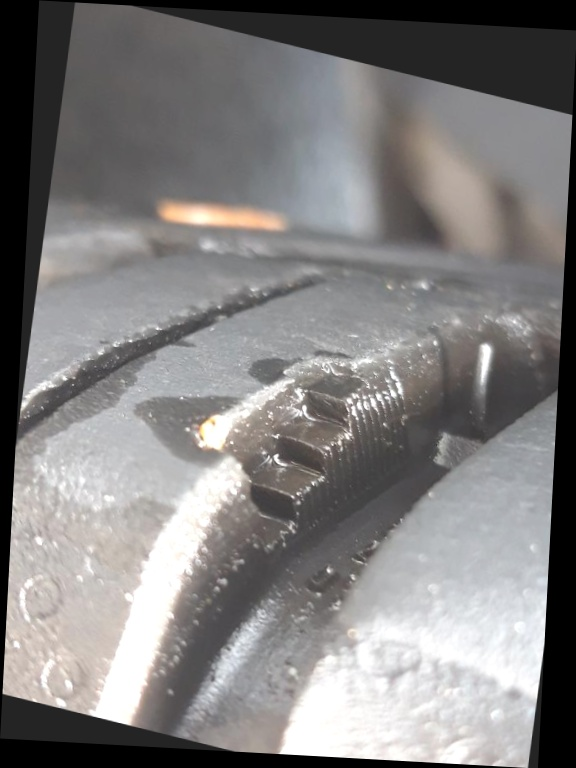temoin:80: (171, 305, 436, 607)
